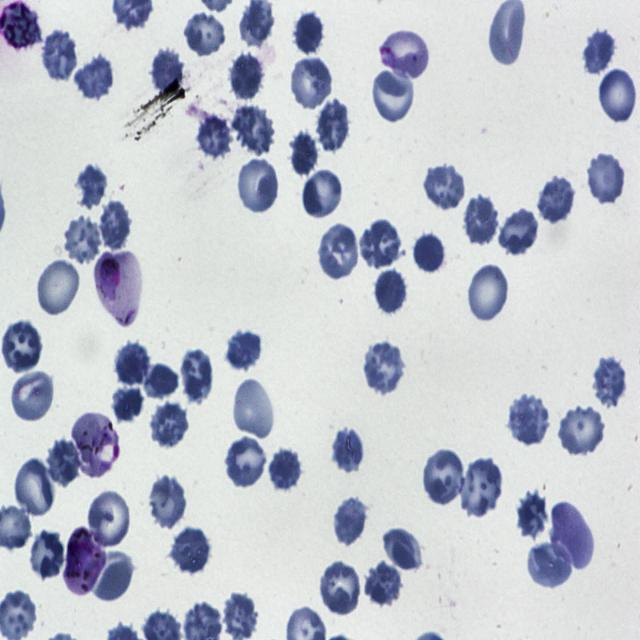difficult: (95, 250, 144, 324)
gametocyte: (64, 526, 107, 596)
red blood cell: (550, 501, 595, 571), (458, 456, 506, 519), (85, 488, 132, 550), (466, 261, 511, 324), (231, 377, 276, 440), (35, 257, 81, 318), (556, 402, 606, 457), (13, 458, 57, 519), (371, 65, 416, 124), (236, 157, 280, 216), (288, 54, 334, 110), (421, 447, 466, 504), (317, 222, 360, 281), (11, 367, 56, 423), (146, 472, 189, 530), (230, 103, 276, 157), (362, 341, 406, 396), (60, 215, 104, 270), (319, 561, 362, 617), (526, 541, 574, 591), (598, 68, 639, 125), (0, 320, 43, 374), (422, 161, 468, 211), (224, 436, 268, 488), (72, 51, 116, 102), (508, 395, 551, 447), (92, 550, 135, 602), (360, 216, 402, 269), (181, 9, 227, 57), (167, 523, 211, 573), (536, 174, 577, 227), (380, 527, 426, 574), (40, 28, 80, 82), (301, 169, 344, 219), (498, 205, 540, 256), (148, 398, 190, 448), (588, 151, 626, 206), (592, 354, 630, 409), (462, 193, 500, 247), (316, 97, 352, 154), (179, 349, 215, 405), (27, 529, 66, 580), (363, 559, 402, 608), (331, 423, 367, 476), (45, 438, 83, 488), (333, 496, 369, 547), (98, 198, 132, 252), (229, 52, 265, 102), (224, 327, 264, 372), (373, 268, 408, 318), (223, 592, 259, 640), (114, 341, 151, 387), (580, 29, 616, 76), (293, 8, 328, 56), (266, 447, 302, 493), (196, 114, 232, 160), (516, 490, 548, 539), (414, 230, 448, 276), (150, 46, 183, 93), (143, 359, 180, 399), (74, 165, 110, 206), (290, 128, 320, 175), (112, 386, 143, 424)
ring: (70, 410, 119, 480), (378, 27, 430, 83)
